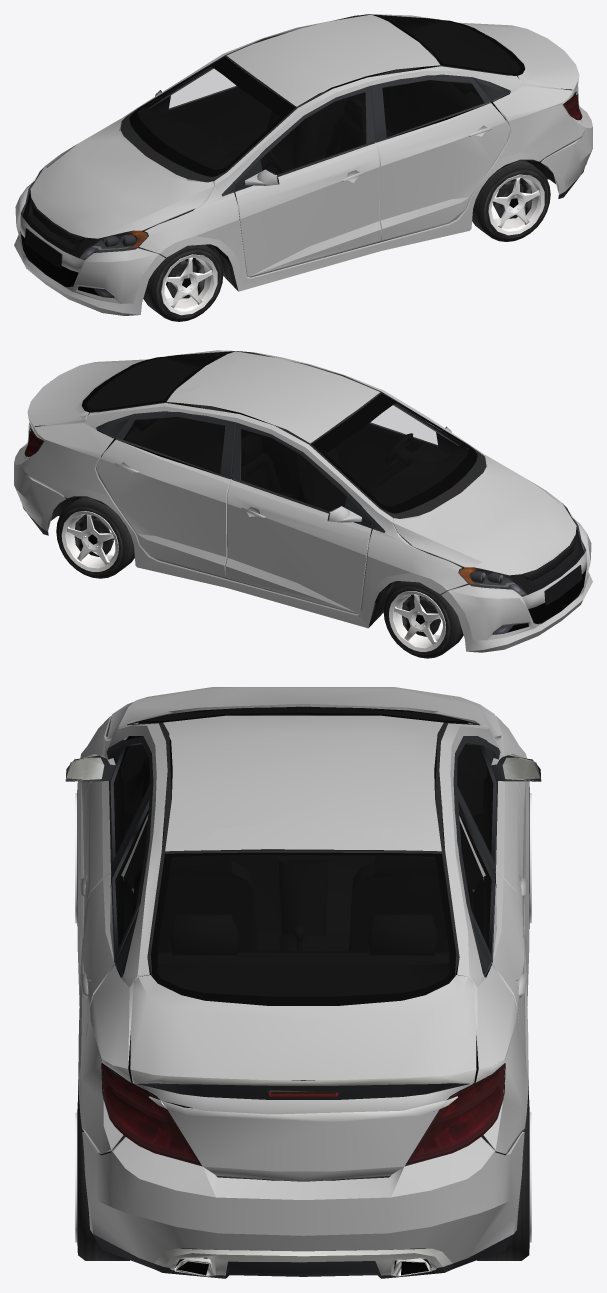
File: car-kiri10.glb
3 renders of one model, top to bottom at view 1: azimuth 30°, elevation 25°; view 2: azimuth 150°, elevation 25°; view 3: azimuth 270°, elevation 25°, orthographic. The views are drawn at different scales.
Parts seen in each view (by area): view 1: body_solar_body_0, interior_solar_void_0, plastic_trim_solar_bottom_0, wheels_solar_bottom_0, wheels_solar_tier_0, glass_trim_colour_solar_glass_rim_0, glass_solar_glass_0, headlight_left_solar_bottom_0, headlight_left_solar_headlights_0; view 2: body_solar_body_0, interior_solar_void_0, plastic_trim_solar_bottom_0, wheels_solar_bottom_0, wheels_solar_tier_0, glass_trim_colour_solar_glass_rim_0, glass_solar_glass_0, headlight_left_solar_bottom_0, headlight_left_solar_headlights_0; view 3: body_solar_body_0, interior_solar_void_0, plastic_trim_solar_bottom_0, stoplights_solar_headlights_0, glass_trim_colour_solar_glass_rim_0, wheels_solar_tier_0, wheels_solar_bottom_0.
Boxes of the visible parts, <box> form: body_solar_body_0: <box>14,14,592,315</box>; interior_solar_void_0: <box>138,15,578,264</box>; plastic_trim_solar_bottom_0: <box>20,14,587,298</box>; wheels_solar_bottom_0: <box>161,174,544,315</box>; wheels_solar_tier_0: <box>143,159,550,321</box>; glass_trim_colour_solar_glass_rim_0: <box>129,15,524,176</box>; glass_solar_glass_0: <box>168,69,236,109</box>; headlight_left_solar_bottom_0: <box>20,167,148,260</box>; headlight_left_solar_headlights_0: <box>22,206,147,298</box>; body_solar_body_0: <box>14,350,592,652</box>; interior_solar_void_0: <box>28,352,468,602</box>; plastic_trim_solar_bottom_0: <box>20,351,586,636</box>; wheels_solar_bottom_0: <box>61,511,445,651</box>; wheels_solar_tier_0: <box>56,496,463,658</box>; glass_trim_colour_solar_glass_rim_0: <box>82,351,477,513</box>; glass_solar_glass_0: <box>370,405,438,446</box>; headlight_left_solar_bottom_0: <box>458,503,585,596</box>; headlight_left_solar_headlights_0: <box>459,541,584,634</box>; body_solar_body_0: <box>66,687,540,1263</box>; interior_solar_void_0: <box>110,707,496,1180</box>; plastic_trim_solar_bottom_0: <box>65,706,541,1278</box>; stoplights_solar_headlights_0: <box>101,1063,505,1164</box>; glass_trim_colour_solar_glass_rim_0: <box>131,707,475,1005</box>; wheels_solar_tier_0: <box>77,781,529,1260</box>; wheels_solar_bottom_0: <box>75,793,531,1242</box>.
Size of the model in its own units: 172 by 56.69 by 67.02.
8 materials, 3 textured.
